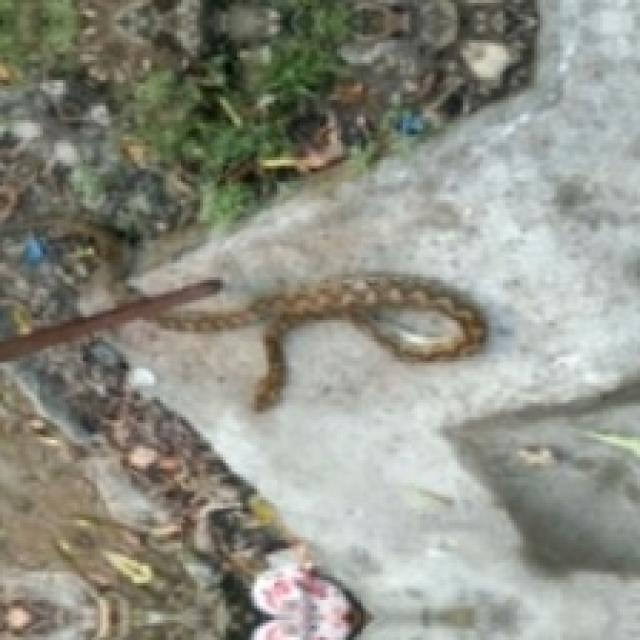reticulated python: (157, 274, 483, 409)
